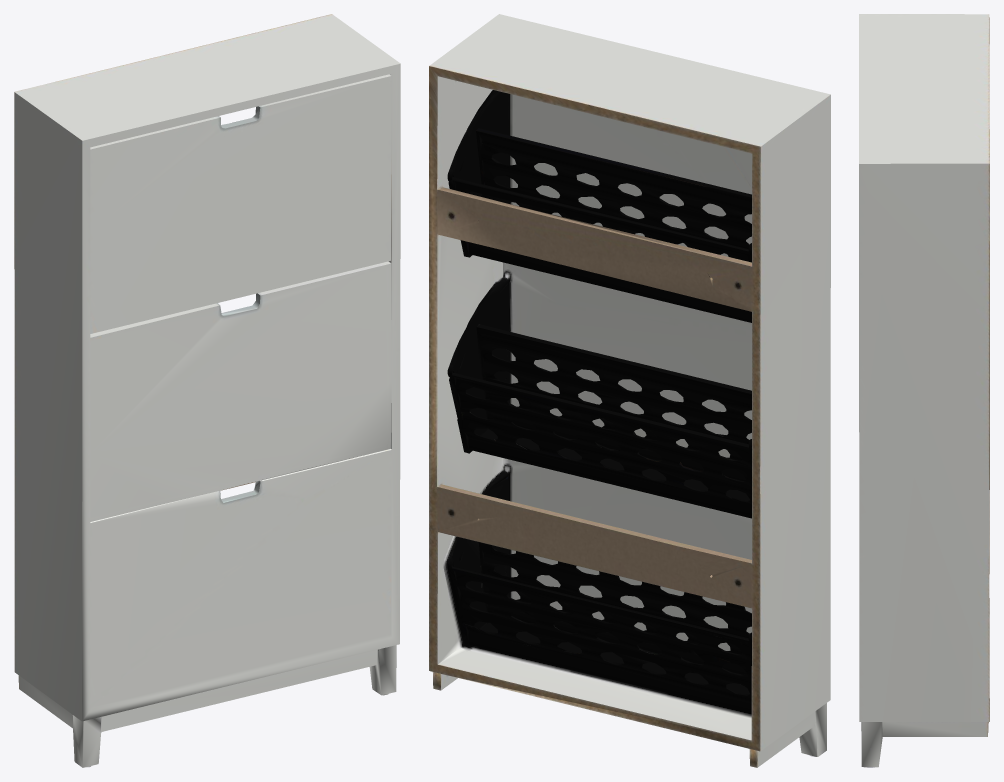
Rendered from stall_szafka_na_buty_3_przegrody_50530262.glb.
3 views of the same model, side by side, from view 1: azimuth 30°, elevation 25°; view 2: azimuth 150°, elevation 25°; view 3: azimuth 270°, elevation 25° (orthographic). The views are drawn at different scales.
Visible parts, largest first — view 1: stall_szafka_na_buty_3_przegrody_50530262; view 2: stall_szafka_na_buty_3_przegrody_50530262; view 3: stall_szafka_na_buty_3_przegrody_50530262.
Boxes of the visible parts, x1,y1,x2,y2 form: stall_szafka_na_buty_3_przegrody_50530262: (14, 14, 400, 767); stall_szafka_na_buty_3_przegrody_50530262: (429, 14, 830, 767); stall_szafka_na_buty_3_przegrody_50530262: (859, 14, 989, 767).
Bounding box in the file's own units: 0.7905 × 1.5 × 0.2922.
Materials: 1 (1 with a texture image).
